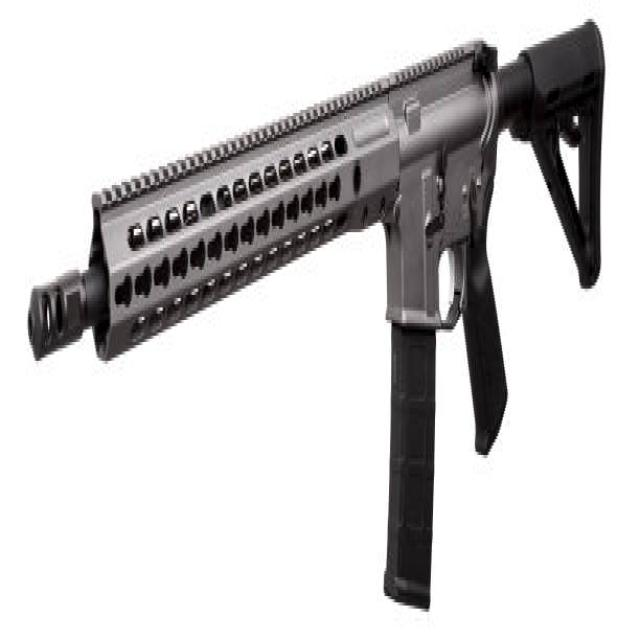rifle: (18, 4, 613, 618)
